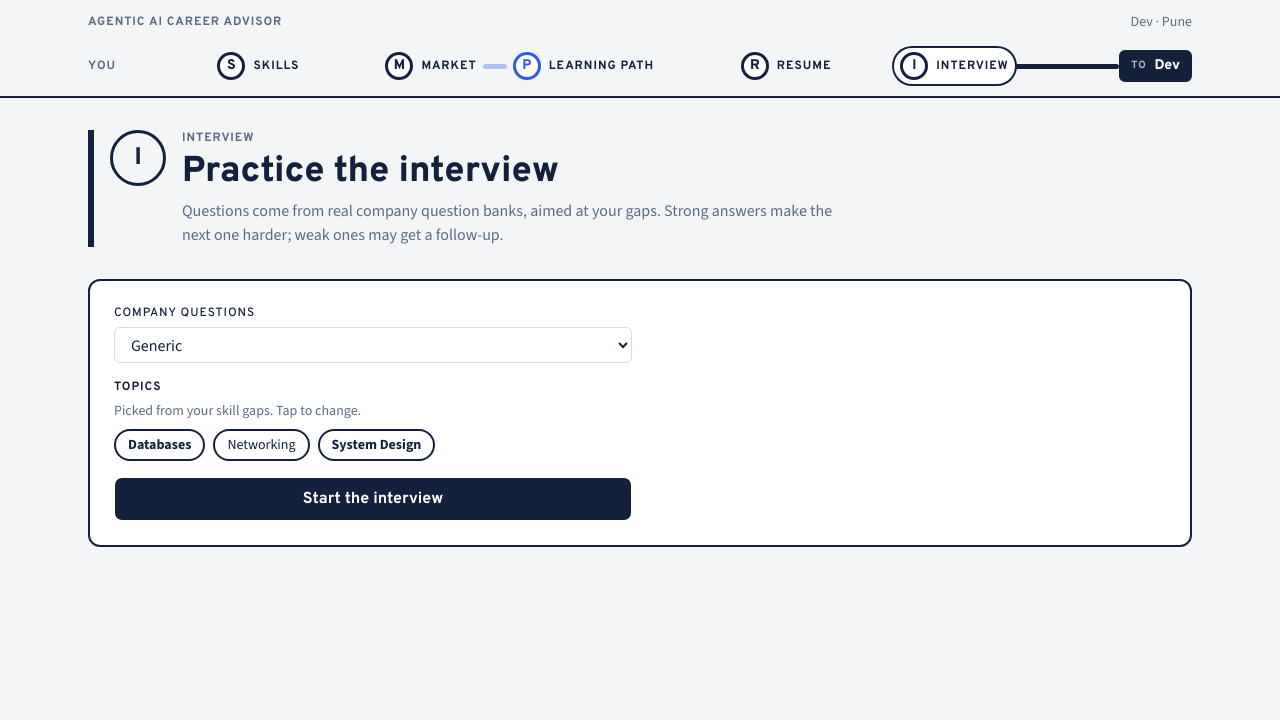
Test: Interview topics › leaves the topics to the server when none are chosen
The width and height of the screenshot is (1280, 720).
Later steps or results of the test are not shown.
Expected: the button "Networking" is shown, [213, 429, 310, 461]
Click the button "Databases" at (160, 445), box [114, 429, 205, 461]
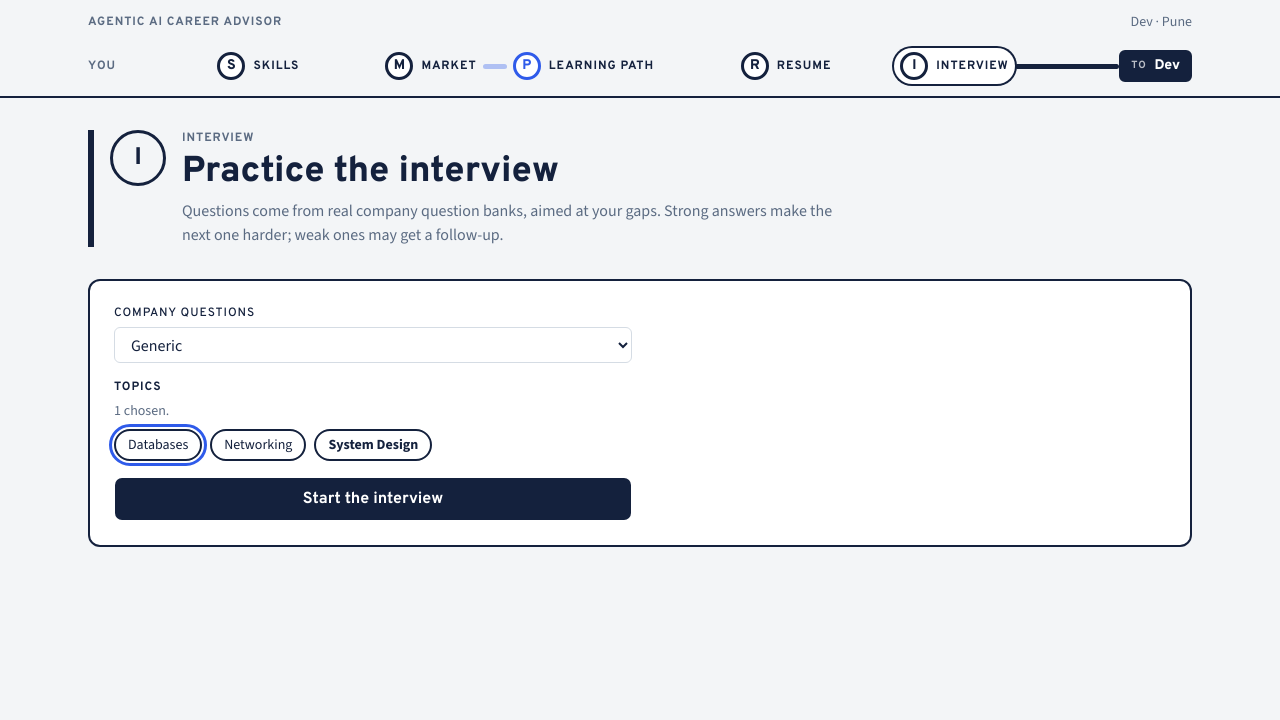
Click the button "System Design" at (373, 445), box [314, 429, 432, 461]
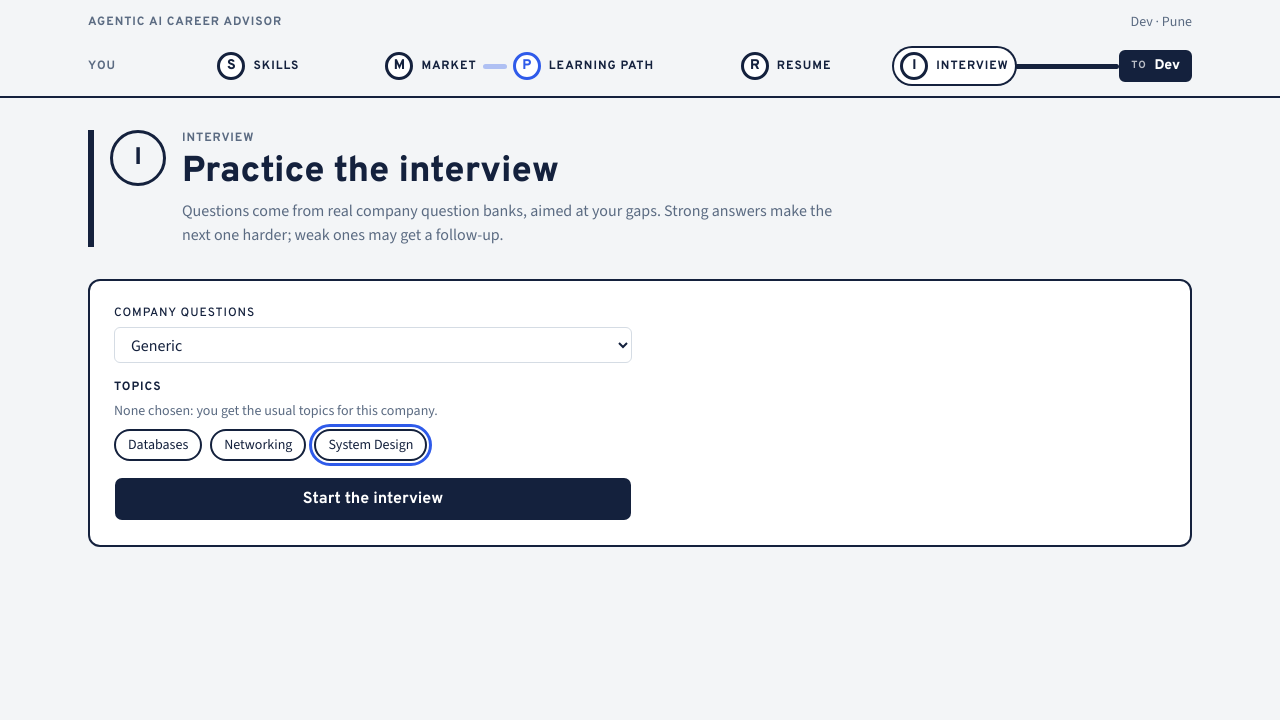
Result: the text "None chosen: you get the usual topics for this company." is shown at [114, 401, 438, 420]
